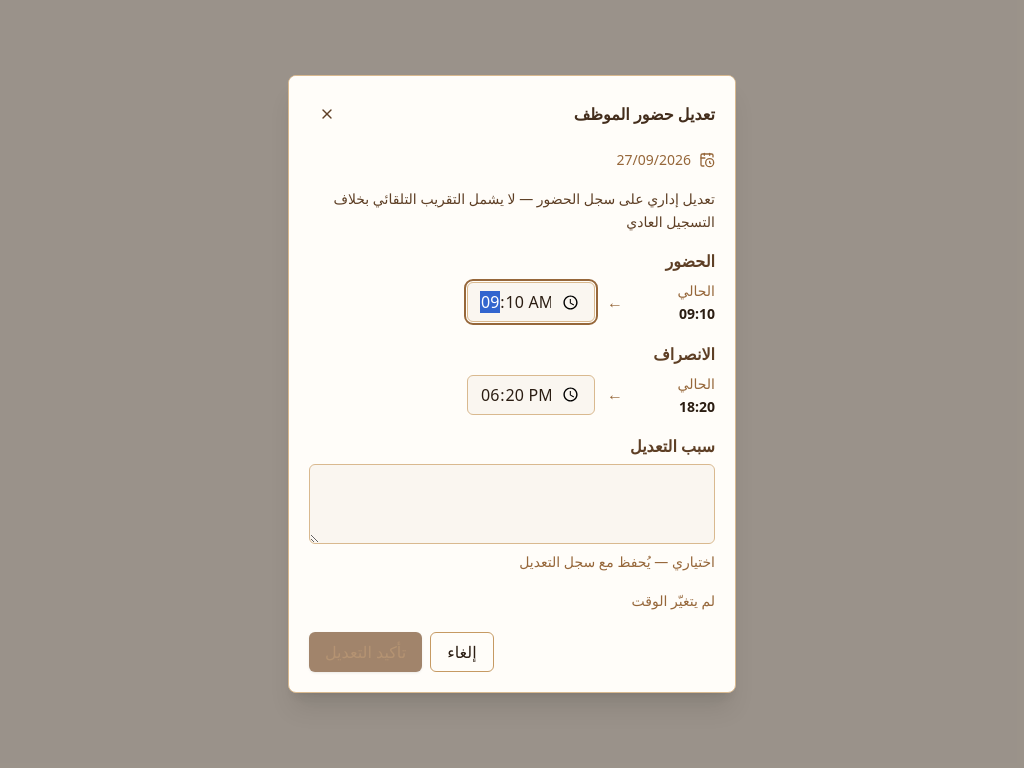
AttendanceOverrideDialog › reports a refusal and keeps the draft, never swallowing it
Replace the text in the time field showing "الحضور" with "09:00" at (531, 302), box [467,282,595,322]
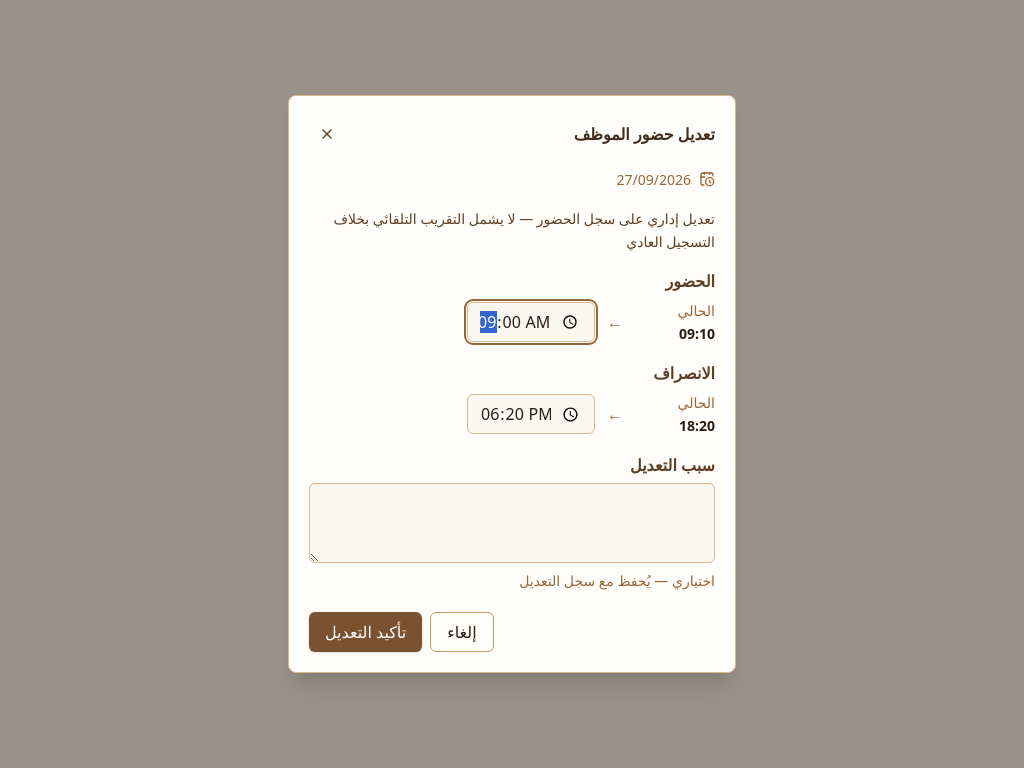
Click the button "تأكيد التعديل".
click(366, 632)  # box [309,612,422,652]
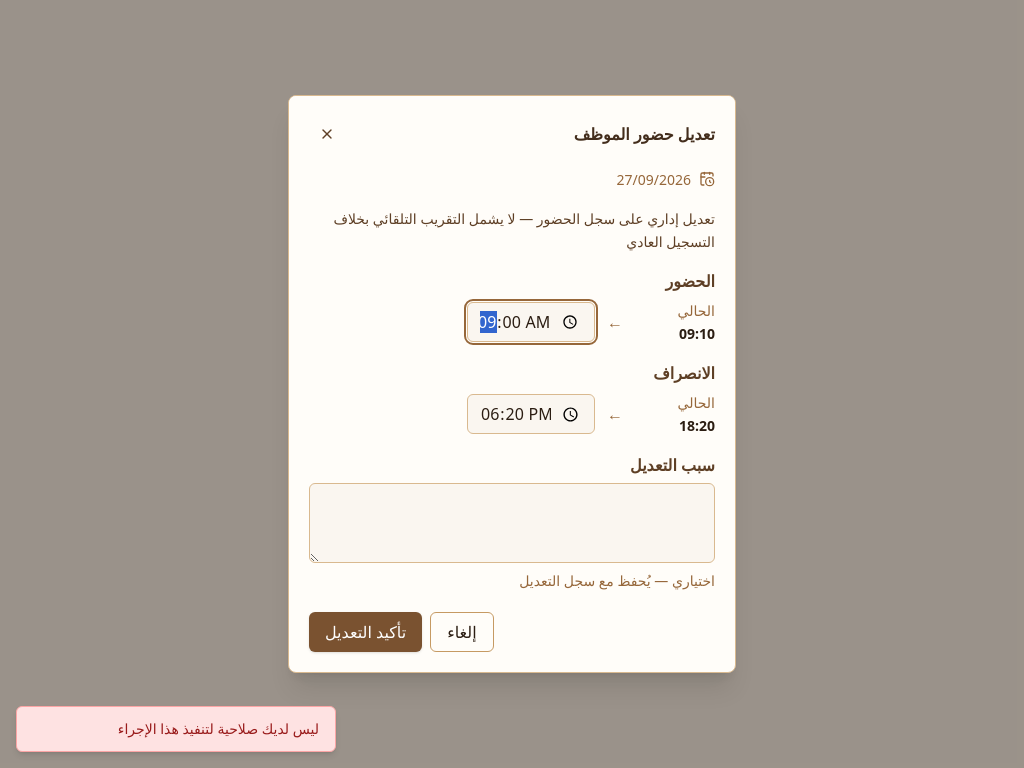
Now the text "ليس لديك صلاحية لتنفيذ هذا الإجراء" is shown, box [16,706,336,752]
